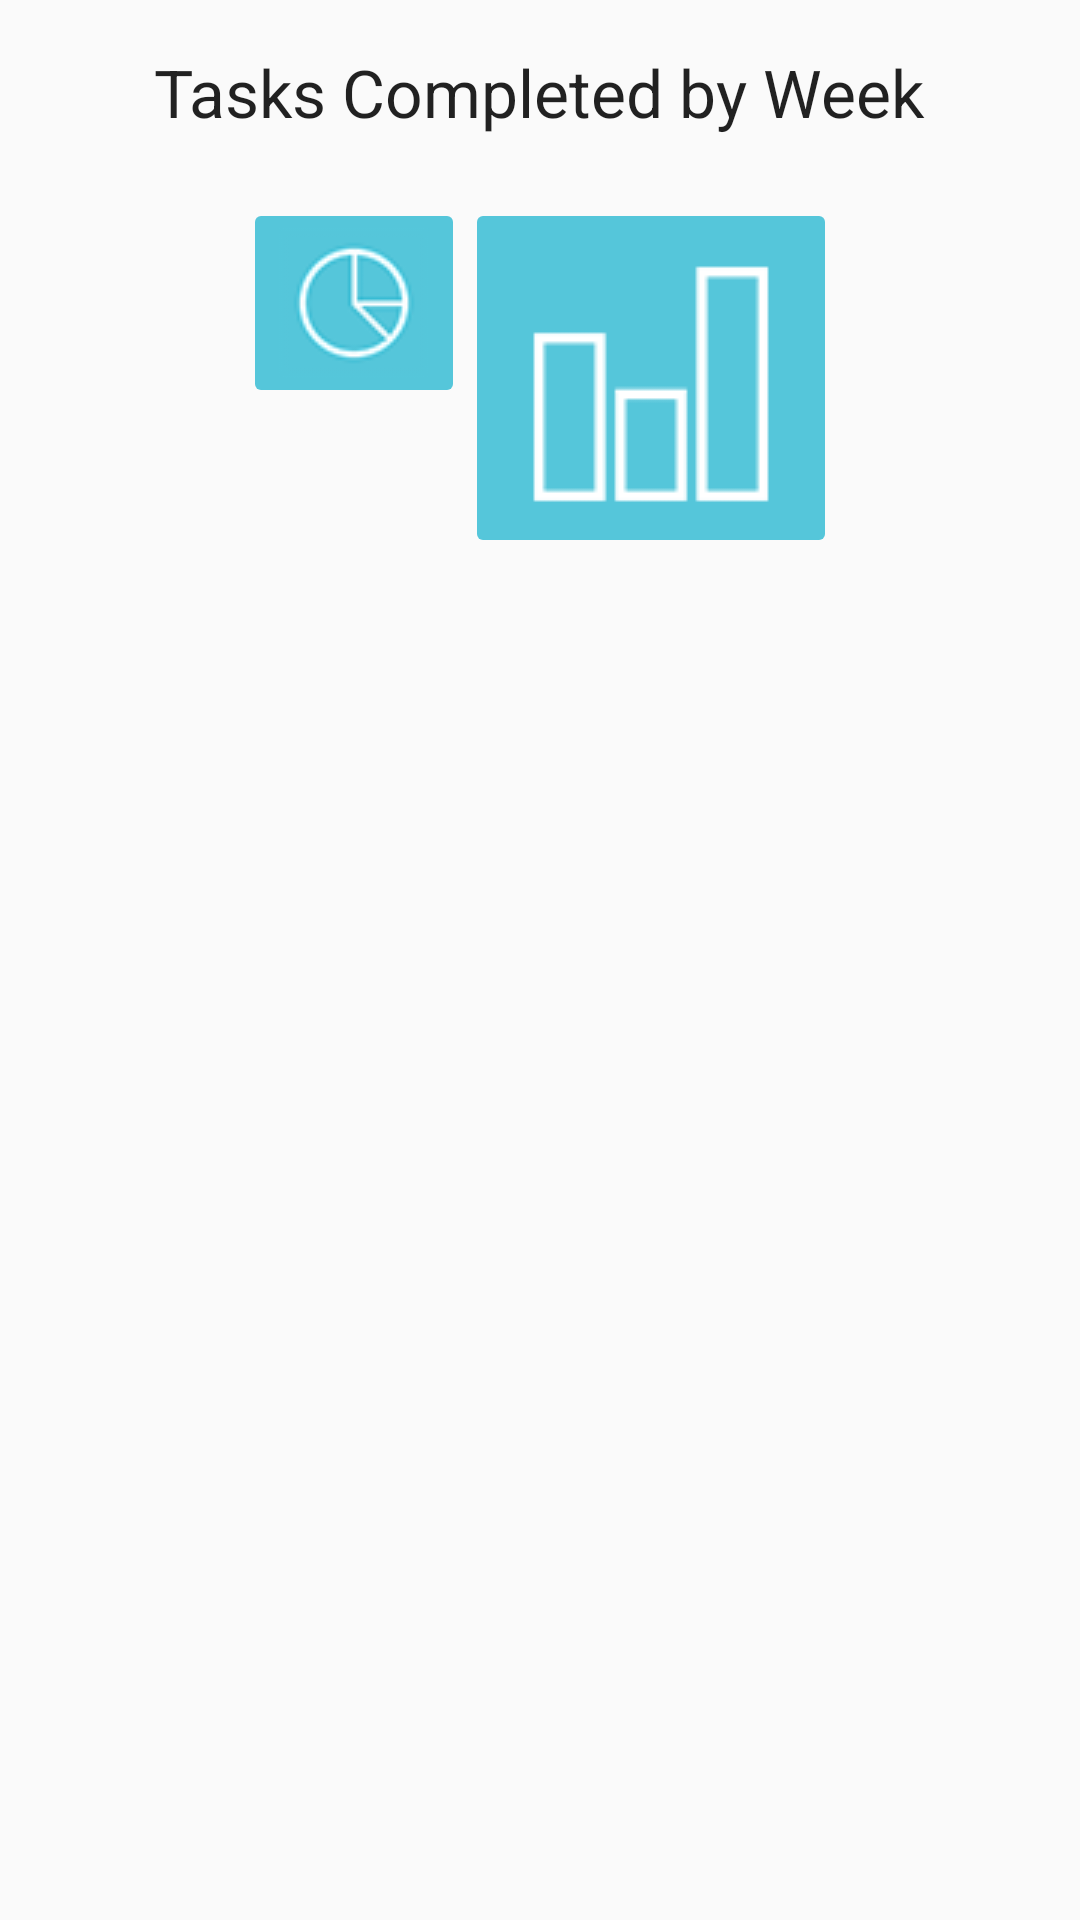

Icons on this 1080w x 1920h Android screen, each with the point to tap as (x,y):
barblue: (651,378)
pieblue: (354,303)
